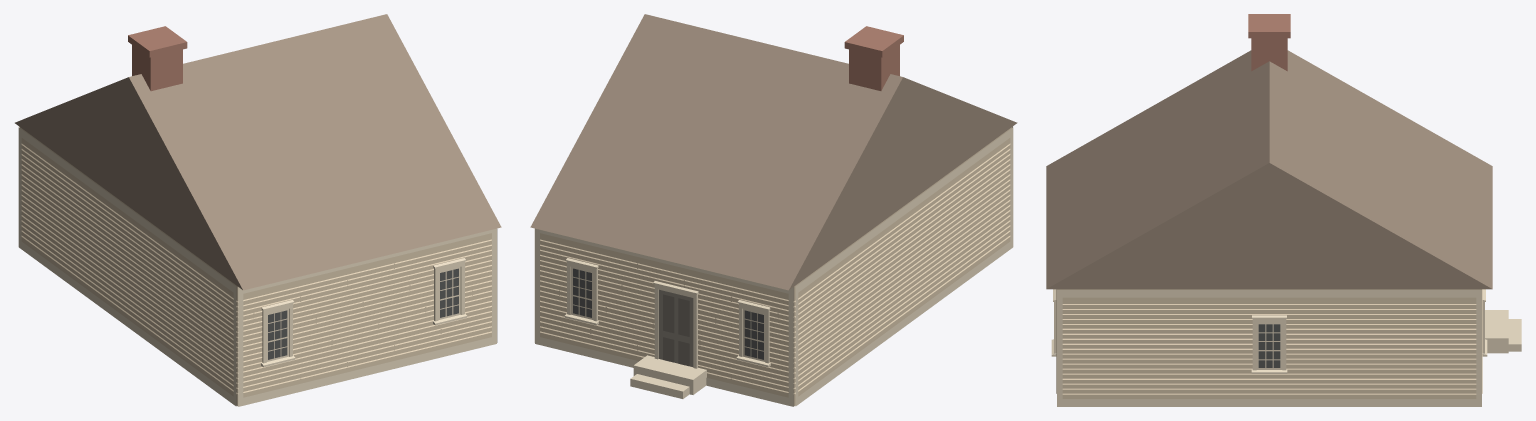
The model's file is recon_1835_south_d5_016__inferred_1835.glb.
The picture shows the model from 3 angles, left to right: view 1: azimuth 30°, elevation 25°; view 2: azimuth 150°, elevation 25°; view 3: azimuth 270°, elevation 25°; orthographic projection. The views are drawn at different scales.
Visible parts, largest first — view 1: recon_1835_south_d5_016__inferred_1835; view 2: recon_1835_south_d5_016__inferred_1835; view 3: recon_1835_south_d5_016__inferred_1835.
Boxes of the visible parts, box(x1,y1,x2,y2) form: recon_1835_south_d5_016__inferred_1835: box(15, 14, 501, 406); recon_1835_south_d5_016__inferred_1835: box(530, 14, 1017, 406); recon_1835_south_d5_016__inferred_1835: box(1046, 14, 1521, 406).
Bounding box in the file's own units: 6.88 × 6.99 × 10.99.
